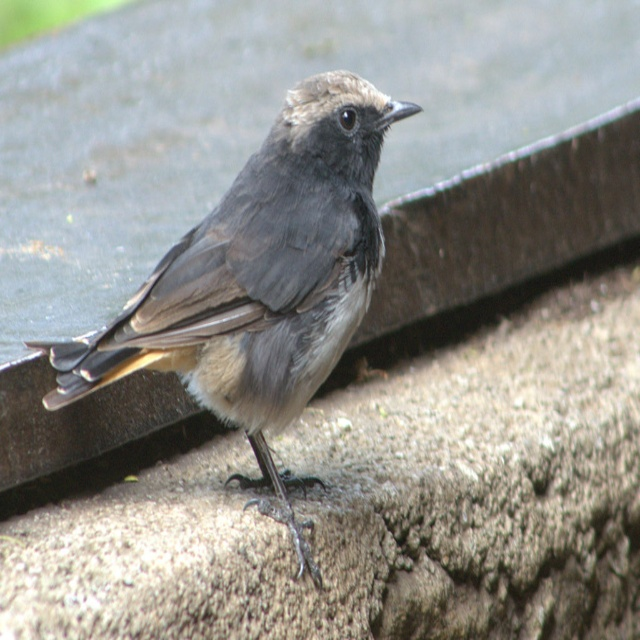Sparrow: (23, 70, 424, 591)
